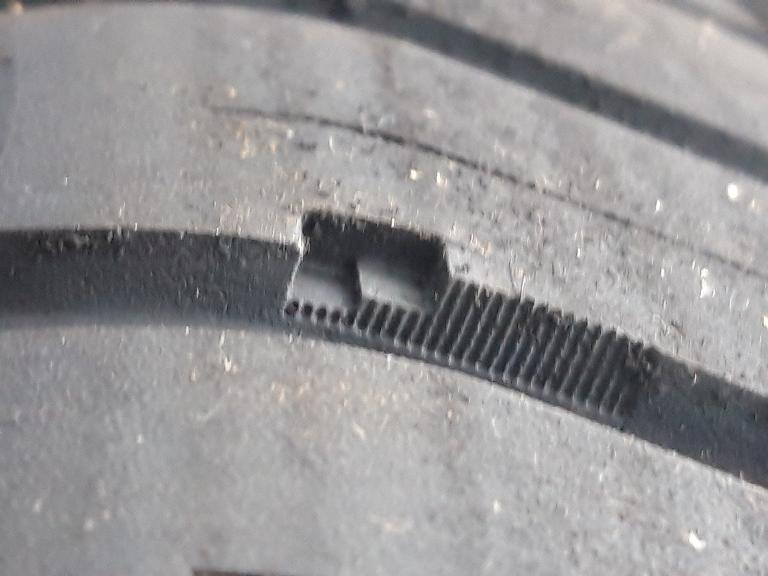temoin:50: (265, 196, 530, 386)
